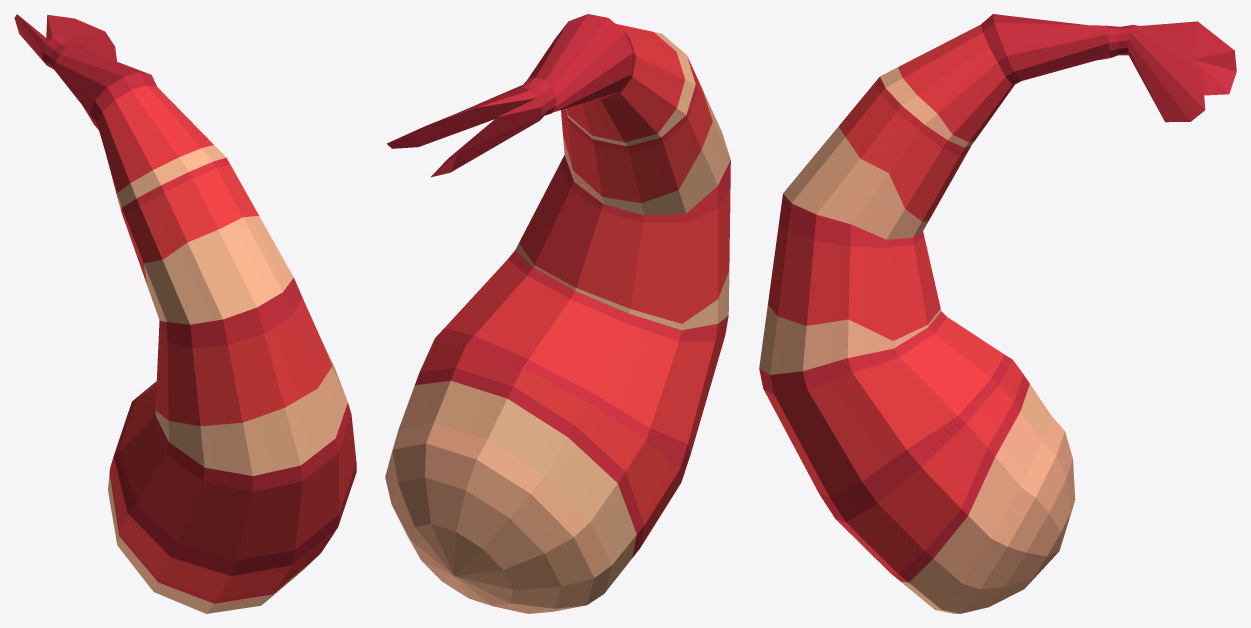
File: Sign_BigShramp.fbx
3 renders of one model, left to right at view 1: azimuth 30°, elevation 25°; view 2: azimuth 150°, elevation 25°; view 3: azimuth 270°, elevation 25°, orthographic. The views are drawn at different scales.
Parts seen in each view (by area): view 1: Torus.004; view 2: Torus.004; view 3: Torus.004.
Boxes of the visible parts, x1,y1,x2,y2 form: Torus.004: [14, 14, 356, 613]; Torus.004: [385, 14, 730, 613]; Torus.004: [759, 14, 1236, 613].
Size of the model in its own units: 147 by 338 by 268.
